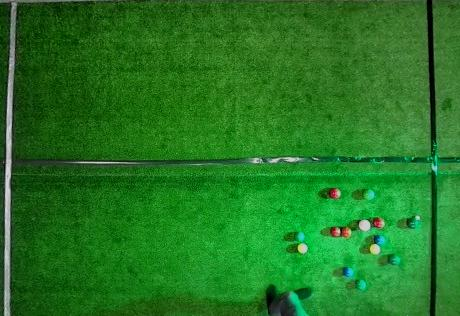blue: (374, 235, 385, 245), (343, 267, 353, 277)
green: (407, 218, 418, 229), (363, 190, 375, 200), (355, 280, 366, 290), (388, 255, 399, 265), (295, 232, 305, 242)
red: (329, 188, 341, 199), (359, 220, 370, 231), (330, 227, 341, 237), (341, 227, 351, 238), (373, 218, 384, 228)
vline: (426, 0, 459, 315), (0, 0, 20, 315)
white: (415, 216, 420, 220)
yellow: (297, 243, 308, 254), (370, 244, 380, 254)
